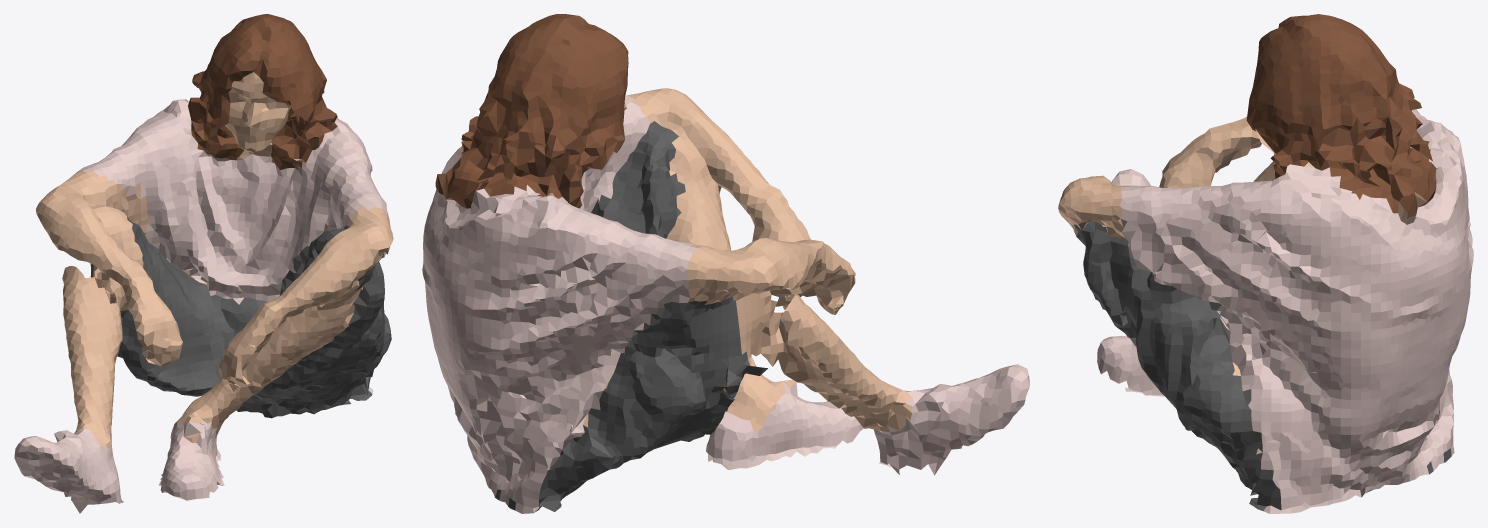
Rendered from loic.glb.
The picture shows the model from 3 angles, left to right: view 1: azimuth 30°, elevation 25°; view 2: azimuth 150°, elevation 25°; view 3: azimuth 270°, elevation 25°; orthographic projection. The views are drawn at different scales.
Parts seen in each view (by area): view 1: loic; view 2: loic; view 3: loic.
Boxes of the visible parts, x1,y1,x2,y2 form: loic: (14,14,393,513); loic: (422,14,1029,513); loic: (1058,14,1473,513).
Size of the model in its own units: 0.9668 by 0.8433 by 0.7003.
